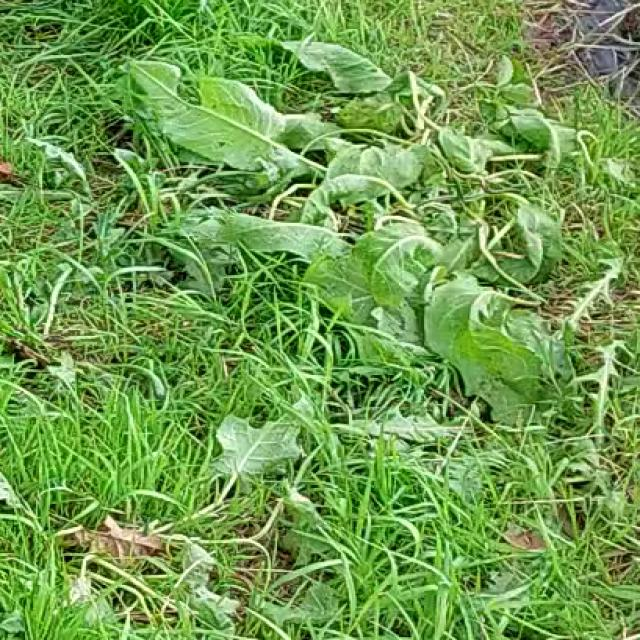organic waste: (113, 24, 635, 464)
